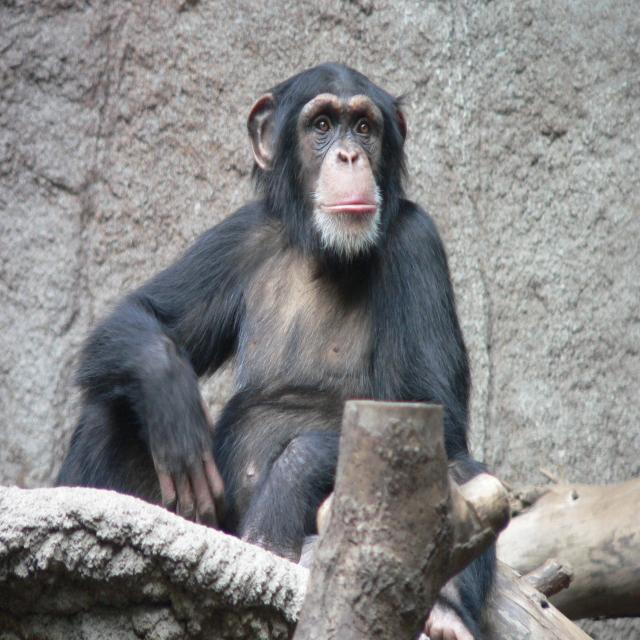chimpanzee: (55, 63, 486, 561), (424, 547, 495, 638)
